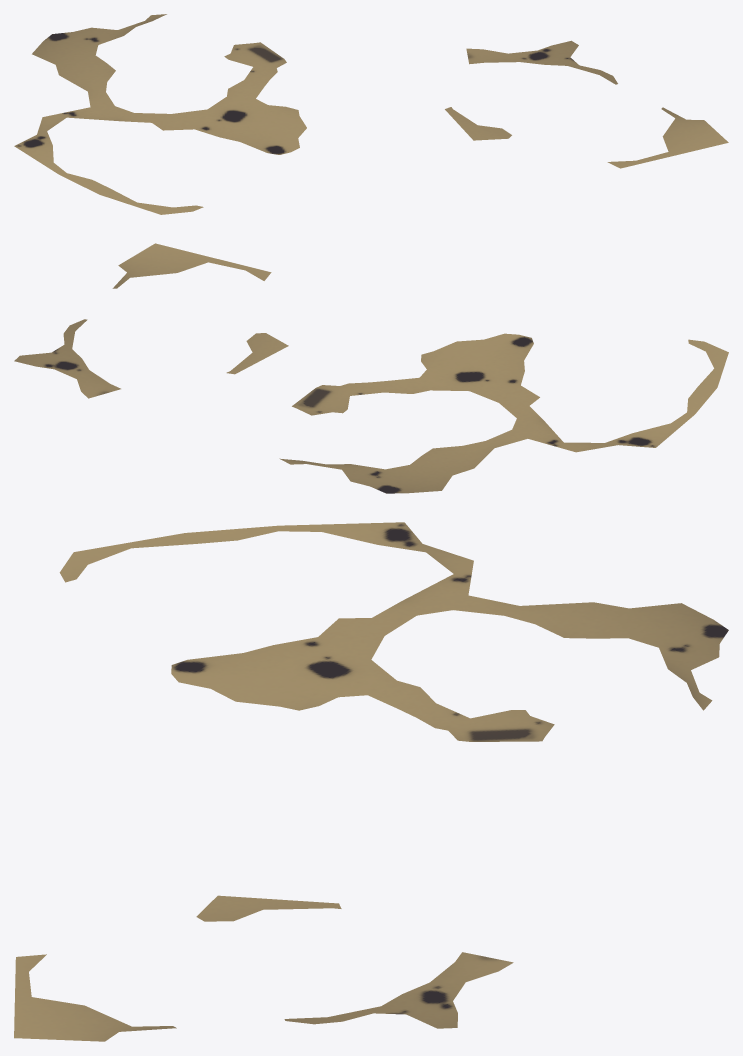
Rendered from Ground_05.FBX.
3 views of the same model, one above another, from view 1: azimuth 30°, elevation 25°; view 2: azimuth 150°, elevation 25°; view 3: azimuth 270°, elevation 25° (orthographic). The views are drawn at different scales.
Parts seen in each view (by area): view 1: Ground_05; view 2: Ground_05; view 3: Ground_05.
Boxes of the visible parts, x1=… form: Ground_05: x1=14, y1=14, x2=728, y2=214; Ground_05: x1=14, y1=243, x2=728, y2=493; Ground_05: x1=14, y1=522, x2=728, y2=1041.
Size of the model in its own units: 34.49 by 2.64 by 23.35.
